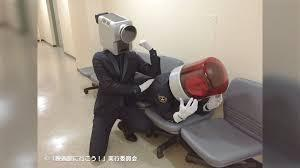no more kid: (93, 8, 138, 55)
